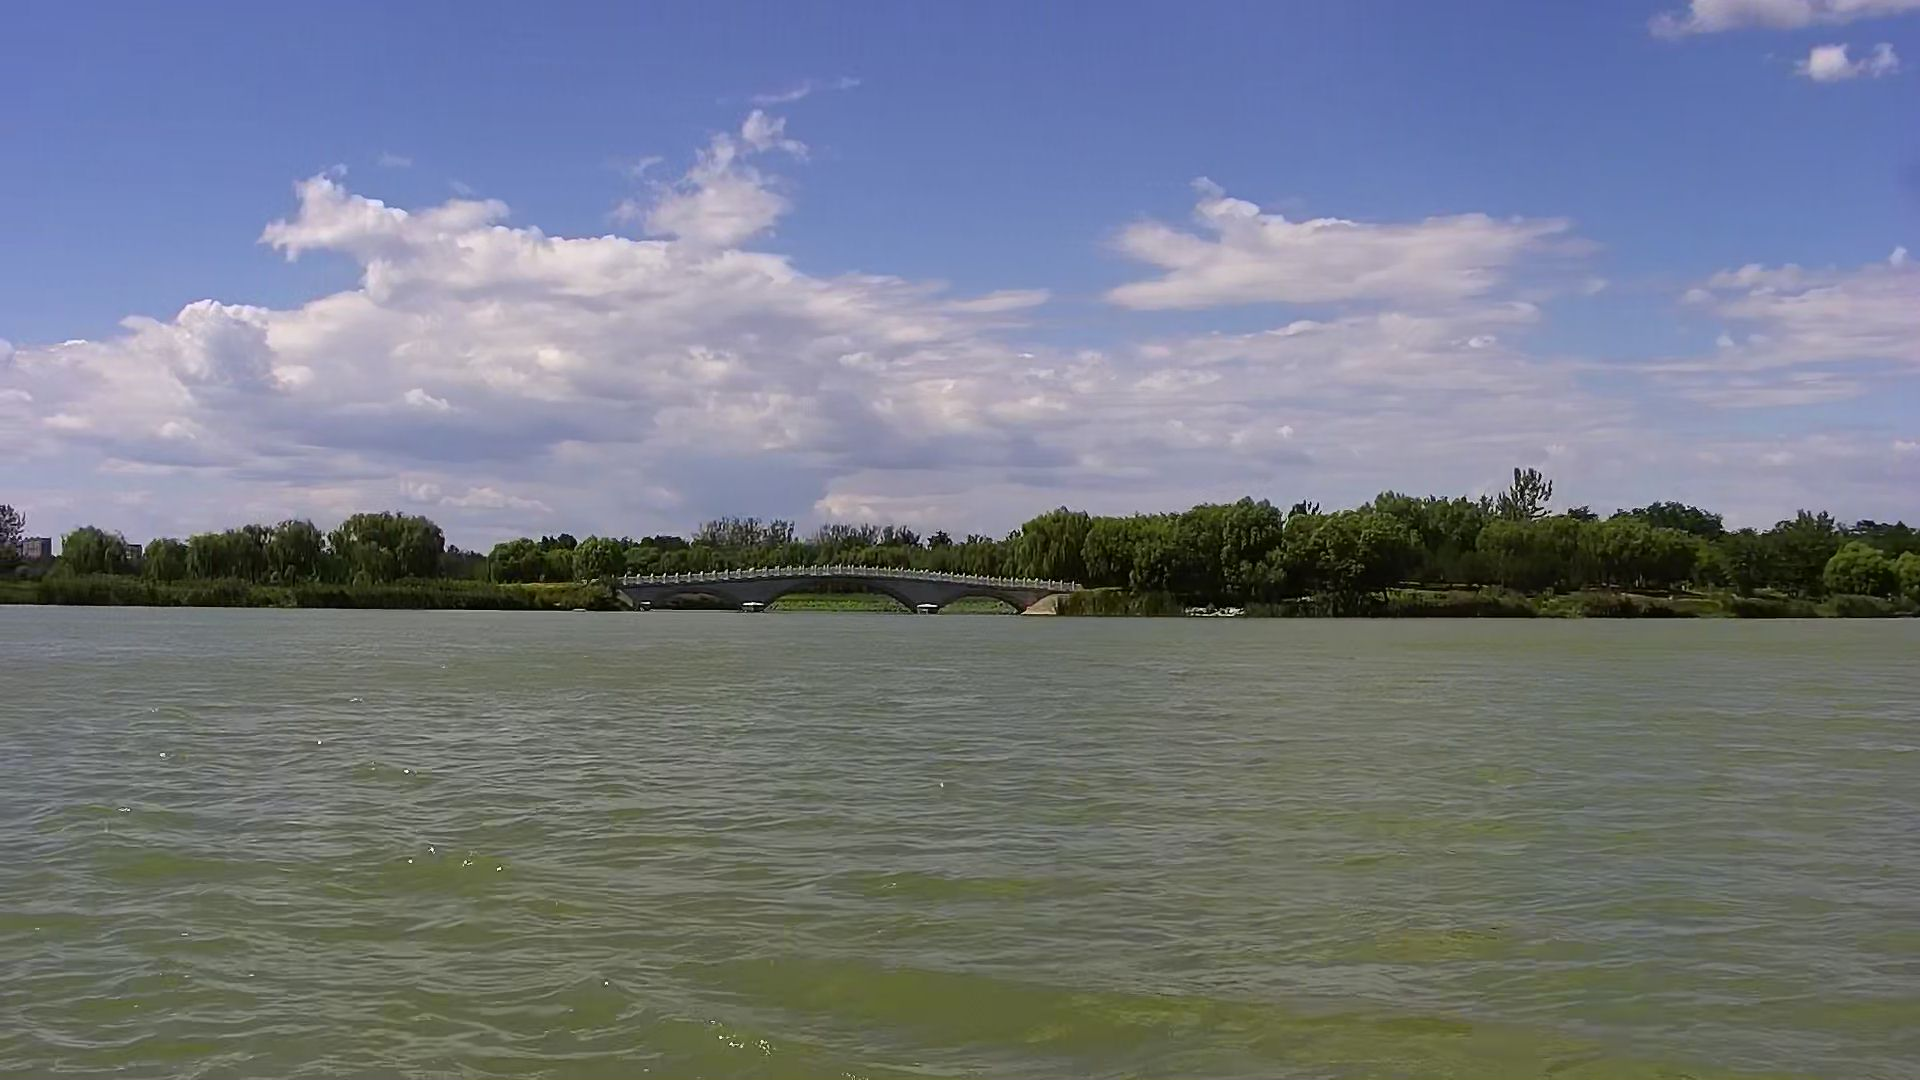bridge: (605, 553, 1098, 622)
